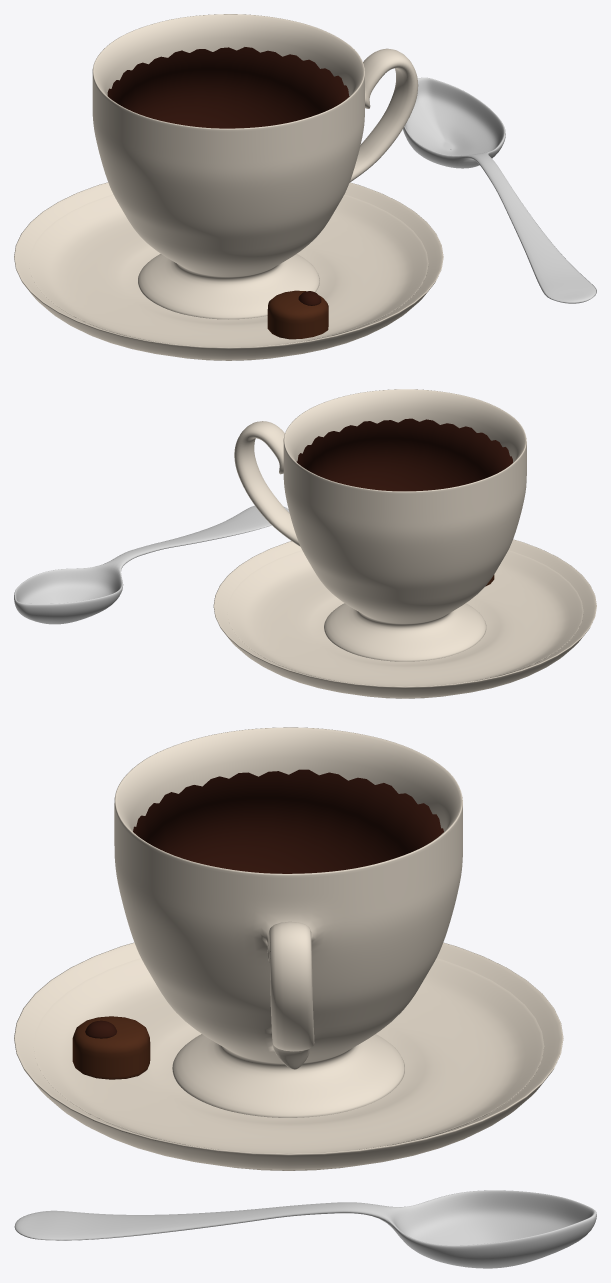
File: coffee2.glb
The picture shows the model from 3 angles, top to bottom: view 1: azimuth 30°, elevation 25°; view 2: azimuth 150°, elevation 25°; view 3: azimuth 270°, elevation 25°; orthographic projection. The views are drawn at different scales.
Parts seen in each view (by area): view 1: tea_cup_4, Sauser_9, coffe_5, teaspoon_10, candy1_1; view 2: tea_cup_4, Sauser_9, coffe_5, teaspoon_10; view 3: tea_cup_4, Sauser_9, coffe_5, teaspoon_10, candy1_1.
Part boxes in pixels (x1,y1,x2,y2): tea_cup_4: (92, 14, 418, 319); Sauser_9: (14, 182, 443, 360); coffe_5: (107, 47, 349, 128); teaspoon_10: (403, 77, 596, 303); candy1_1: (267, 290, 328, 339); tea_cup_4: (234, 389, 526, 661); Sauser_9: (213, 539, 596, 698); coffe_5: (296, 418, 512, 491); teaspoon_10: (14, 505, 289, 624); tea_cup_4: (114, 727, 462, 1117); Sauser_9: (14, 942, 563, 1170); coffe_5: (133, 769, 443, 873); teaspoon_10: (14, 1190, 596, 1268); candy1_1: (72, 1016, 150, 1079).
Bounding box in the file's own units: 0.1841 × 0.0742 × 0.1377.
